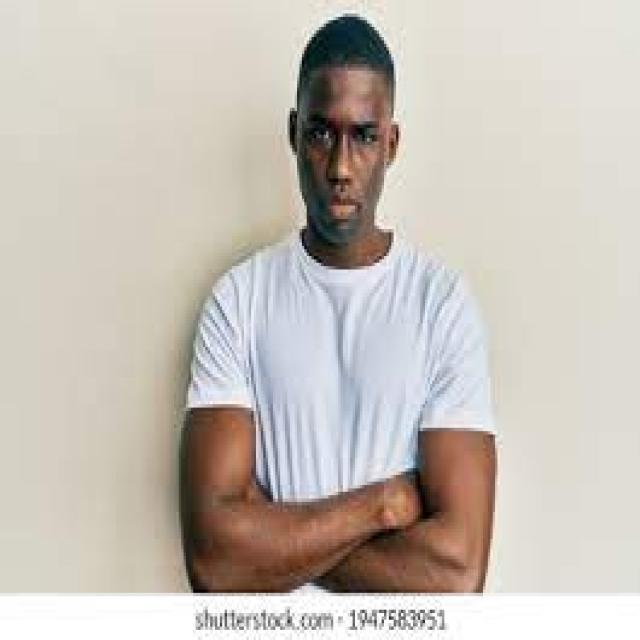Angry: (287, 42, 411, 272)
